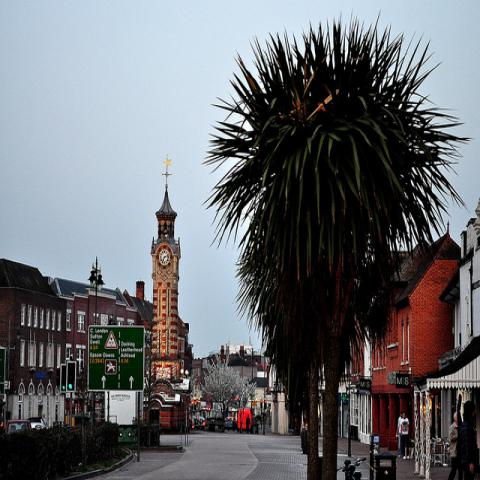car: (237, 408, 254, 433), (4, 420, 32, 433), (26, 416, 47, 431), (214, 418, 226, 432), (226, 416, 235, 432)
motorcycle: (336, 456, 368, 479)
